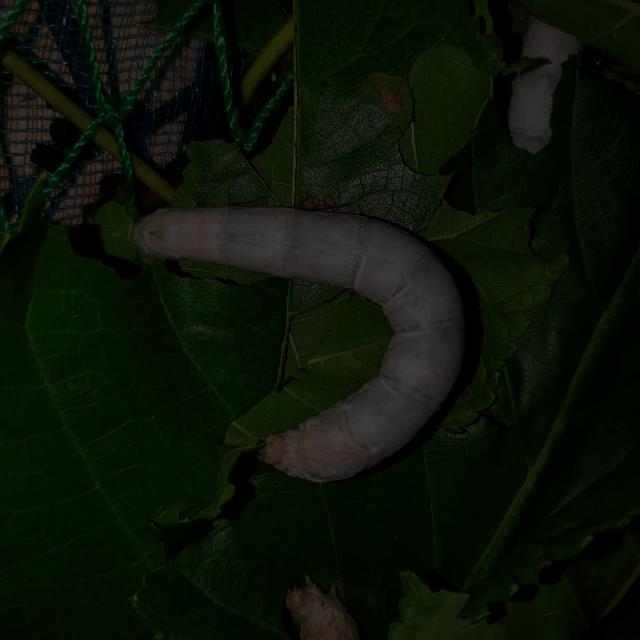Healthy: (96, 172, 494, 479)
